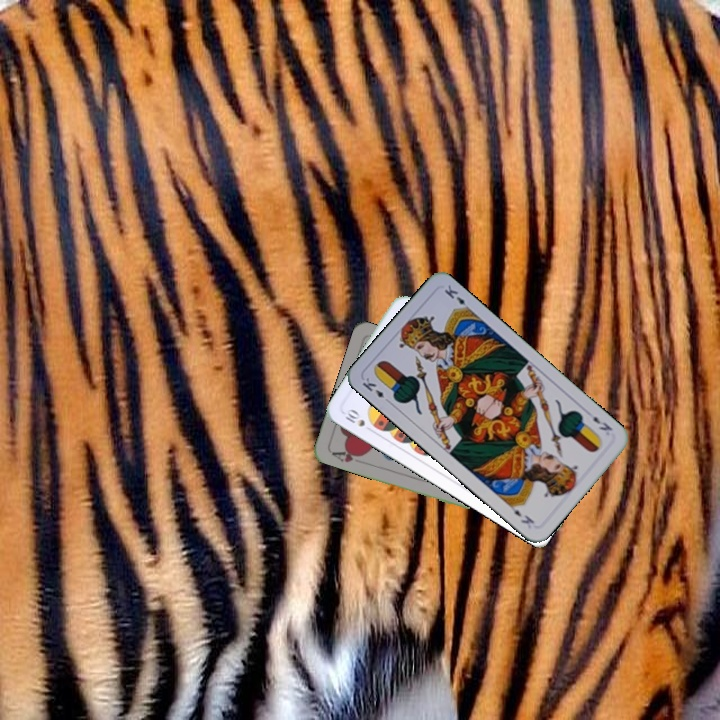EK: (358, 373, 394, 406), (589, 412, 615, 433)
HA: (327, 445, 367, 465)
S10: (340, 405, 376, 435)
